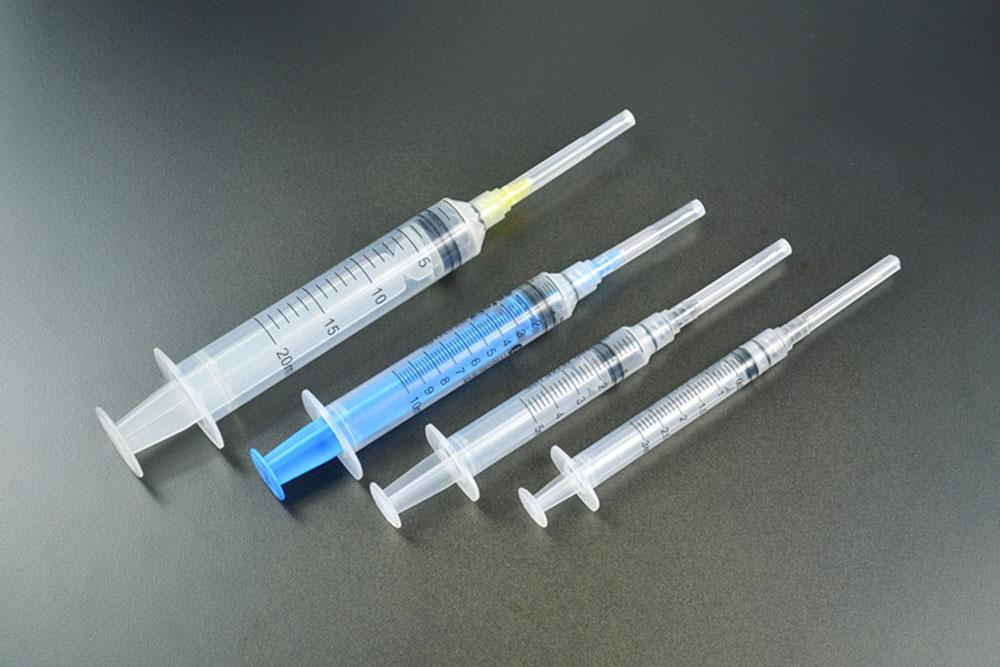Syringe: (96, 110, 633, 476), (250, 200, 703, 498), (370, 239, 790, 527), (519, 255, 899, 526)
